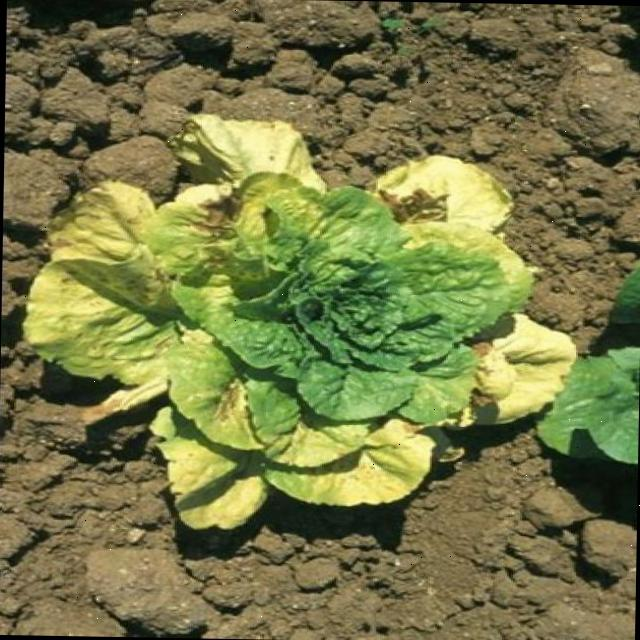Lettuce Mosaic Virus: (27, 112, 578, 531)
